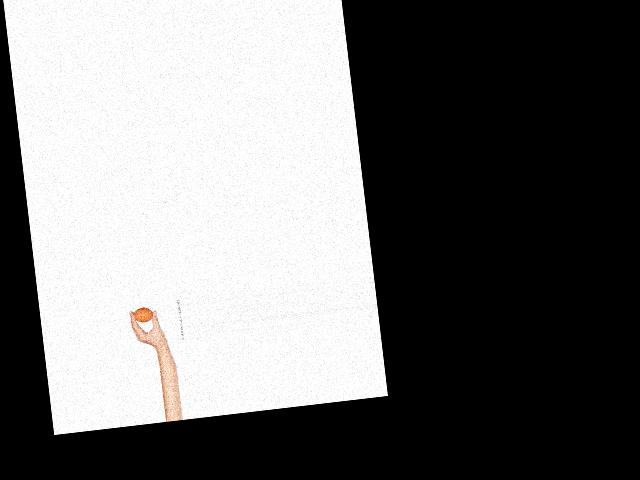egg: (132, 306, 154, 322)
